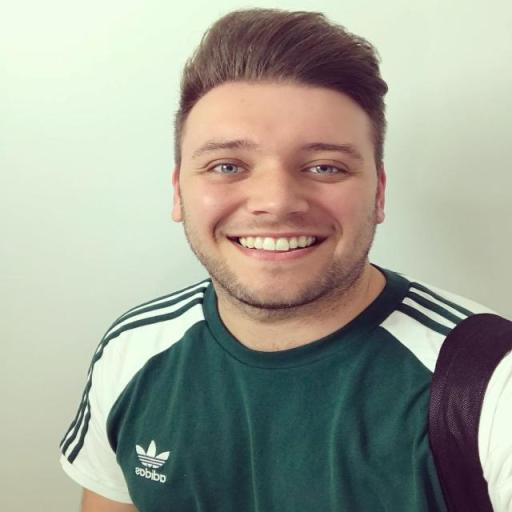Adidas: (132, 437, 172, 486)
